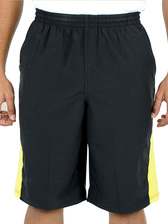clothoes: (14, 6, 165, 210)
